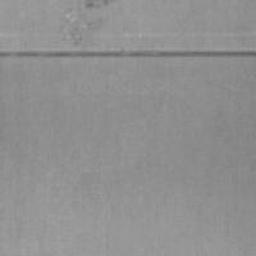Welding line: (0, 49, 256, 59)
